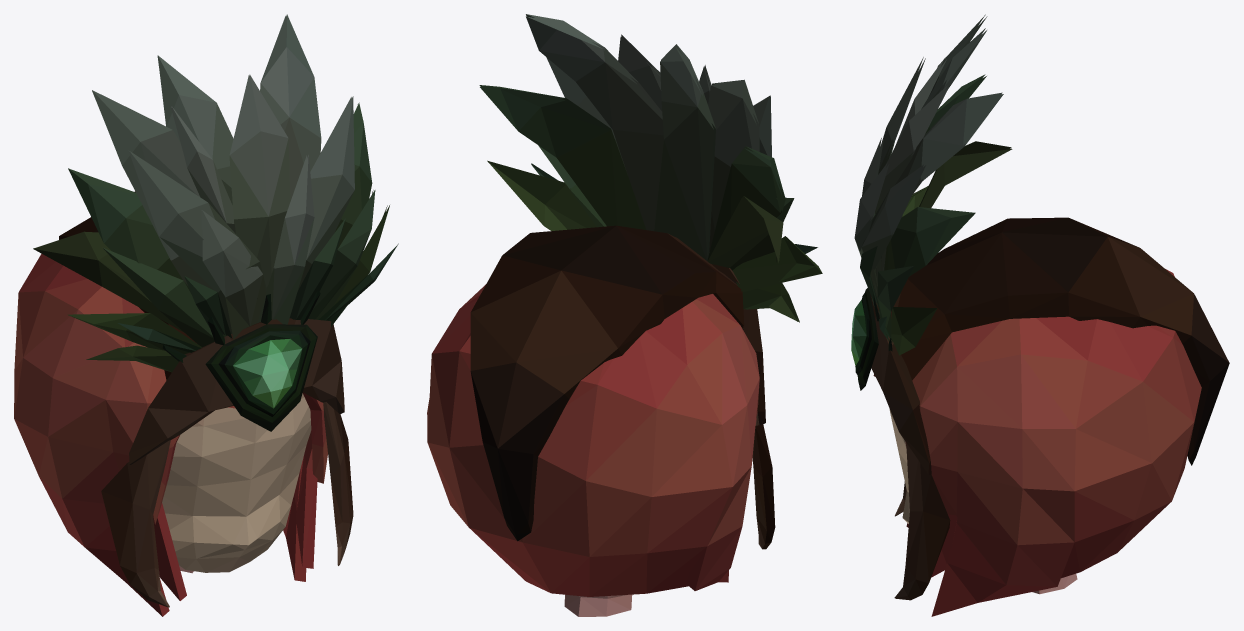
Rendered from helm_lightskin_bob_red_headress.fbx.
3 views of the same model, side by side, from view 1: azimuth 30°, elevation 25°; view 2: azimuth 150°, elevation 25°; view 3: azimuth 270°, elevation 25° (orthographic). The views are drawn at different scales.
Parts seen in each view (by area): view 1: helm_lightskin_bob_red_headress; view 2: helm_lightskin_bob_red_headress; view 3: helm_lightskin_bob_red_headress.
Boxes of the visible parts, x1,y1,x2,y2 form: helm_lightskin_bob_red_headress: [14, 14, 398, 616]; helm_lightskin_bob_red_headress: [427, 14, 822, 616]; helm_lightskin_bob_red_headress: [851, 14, 1229, 616].
Size of the model in its own units: 1.29 by 2.07 by 1.32.
